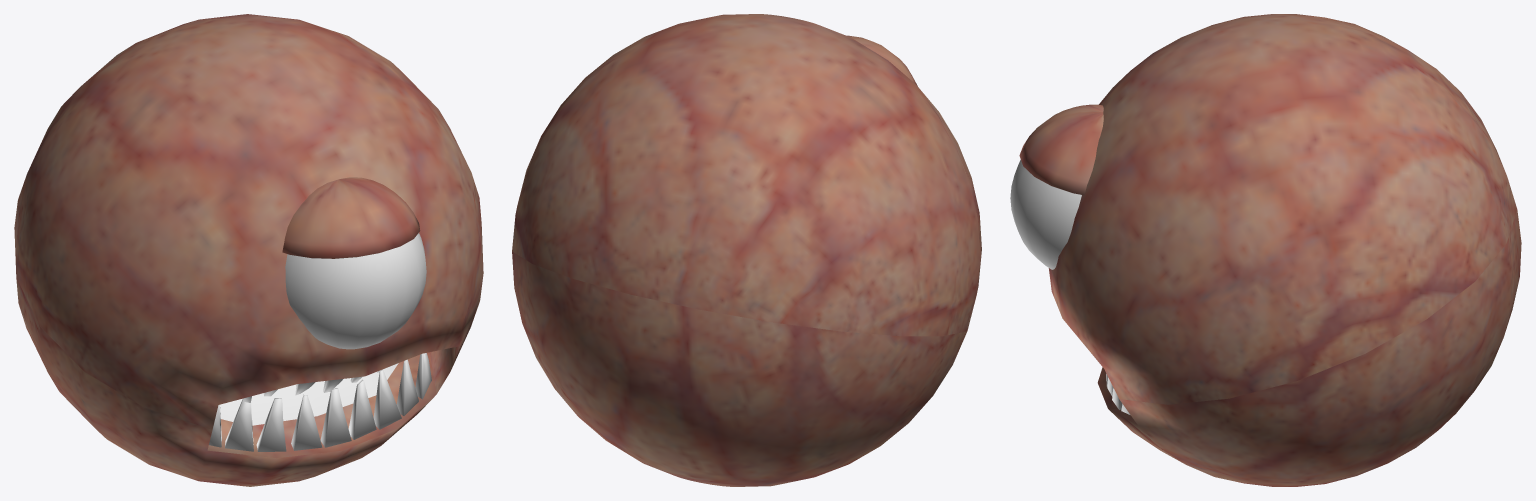
File: MonsterBall_PSX.fbx
The picture shows the model from 3 angles, left to right: view 1: azimuth 30°, elevation 25°; view 2: azimuth 150°, elevation 25°; view 3: azimuth 270°, elevation 25°; orthographic projection.
Parts seen in each view (by area): view 1: MonsterBall, Eye; view 2: MonsterBall; view 3: MonsterBall, Eye.
Part boxes in pixels (<box>): MonsterBall: <box>14,14,483,486</box>; Eye: <box>285,233,426,349</box>; MonsterBall: <box>512,14,981,486</box>; MonsterBall: <box>1019,14,1521,486</box>; Eye: <box>1010,160,1081,269</box>.
Bounding box in the file's own units: 2 × 2 × 2.16.
